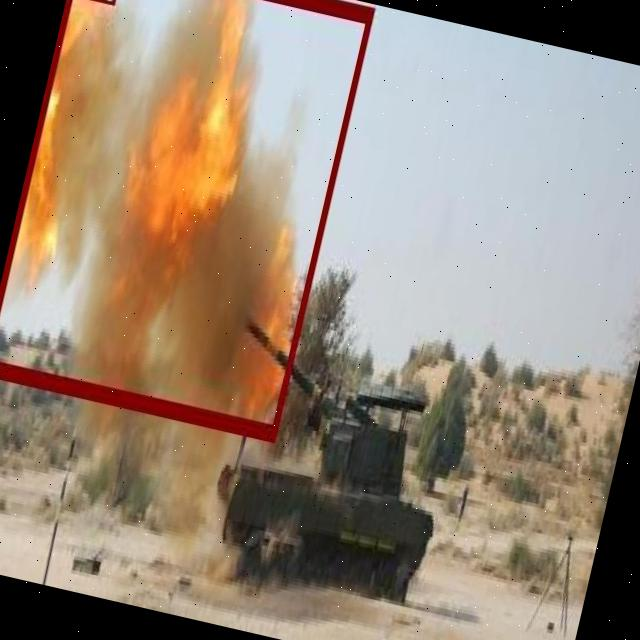fire: (0, 0, 373, 435)
